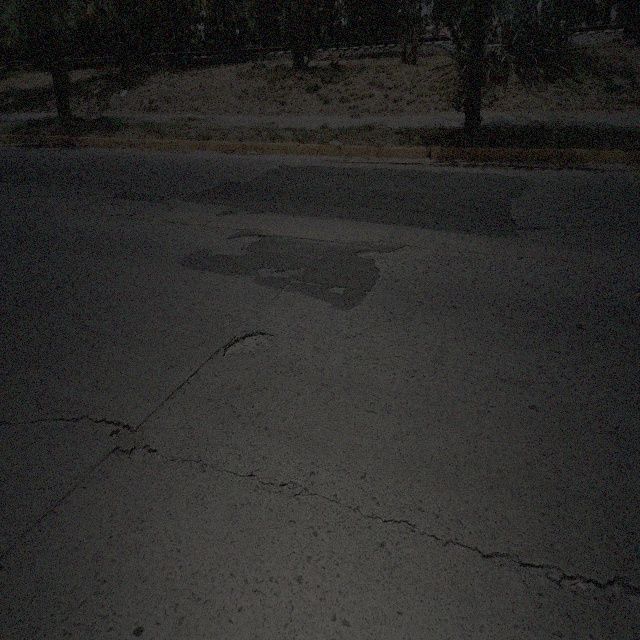pothole: (224, 329, 275, 364), (113, 423, 160, 458), (356, 248, 386, 271), (258, 264, 306, 278), (328, 283, 348, 296)
